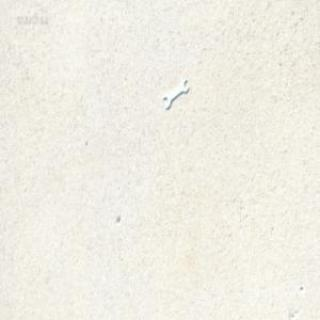Wrenchtrack_idkeyframe: (162, 77, 188, 109)
